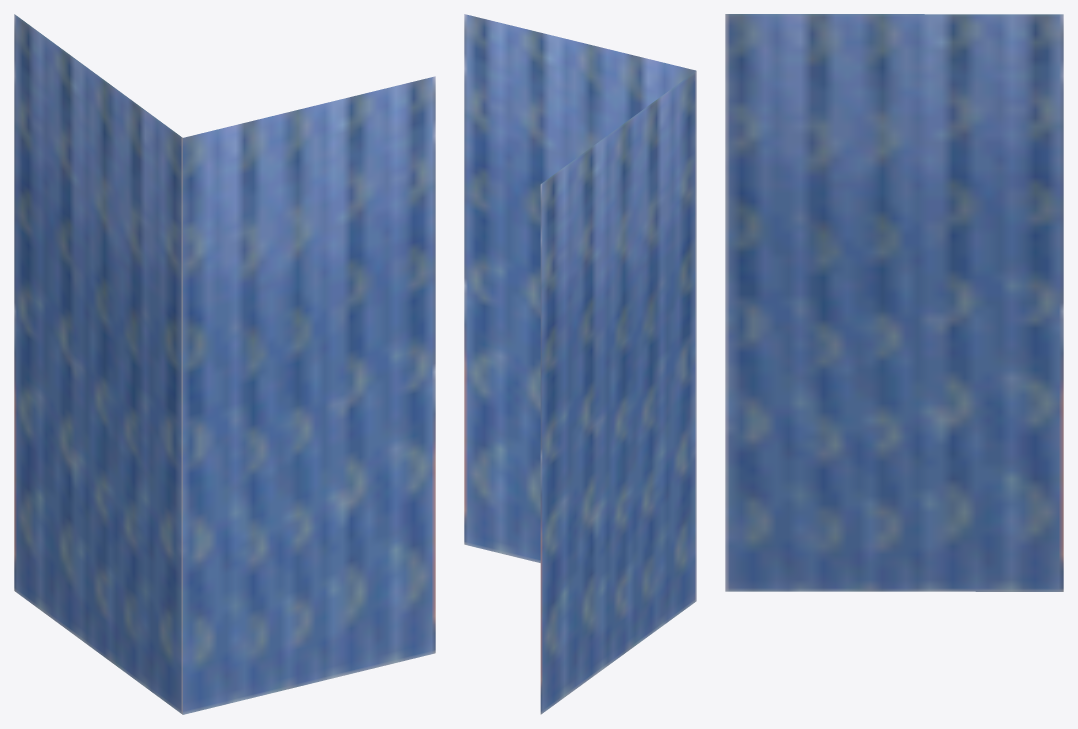
Rendered from bathcurtain02.glb.
The picture shows the model from 3 angles, left to right: view 1: azimuth 30°, elevation 25°; view 2: azimuth 150°, elevation 25°; view 3: azimuth 270°, elevation 25°; orthographic projection. The views are drawn at different scales.
Parts seen in each view (by area): view 1: bathcurtain02; view 2: bathcurtain02; view 3: bathcurtain02.
Boxes of the visible parts, <box> form: bathcurtain02: <box>14,14,435,714</box>; bathcurtain02: <box>464,14,696,714</box>; bathcurtain02: <box>725,14,1063,591</box>.
Bounding box in the file's own units: 213 × 464 × 247.
1 material, 1 textured.
